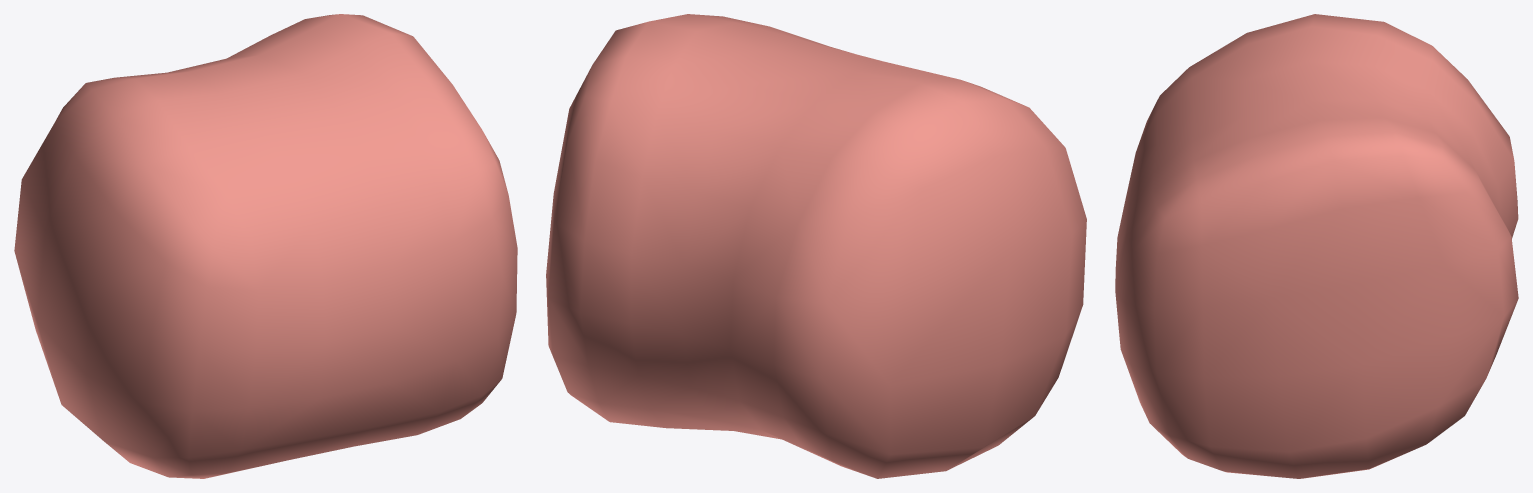
The model's file is mixamo_humanoid_surface_rightHandPinky2.fbx.
The picture shows the model from 3 angles, left to right: view 1: azimuth 30°, elevation 25°; view 2: azimuth 150°, elevation 25°; view 3: azimuth 270°, elevation 25°; orthographic projection. The views are drawn at different scales.
Parts seen in each view (by area): view 1: surface_RightHandPinky2; view 2: surface_RightHandPinky2; view 3: surface_RightHandPinky2.
Part boxes in pixels (x1,y1,x2,y2): surface_RightHandPinky2: (14, 14, 517, 478); surface_RightHandPinky2: (546, 14, 1086, 478); surface_RightHandPinky2: (1115, 14, 1518, 478).
Size of the model in its own units: 1.92 by 1.61 by 1.72.
